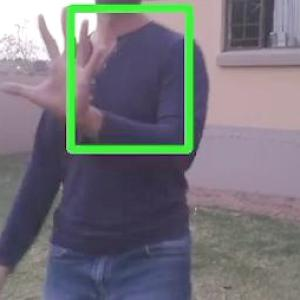follow_hand: (1, 4, 111, 118)
